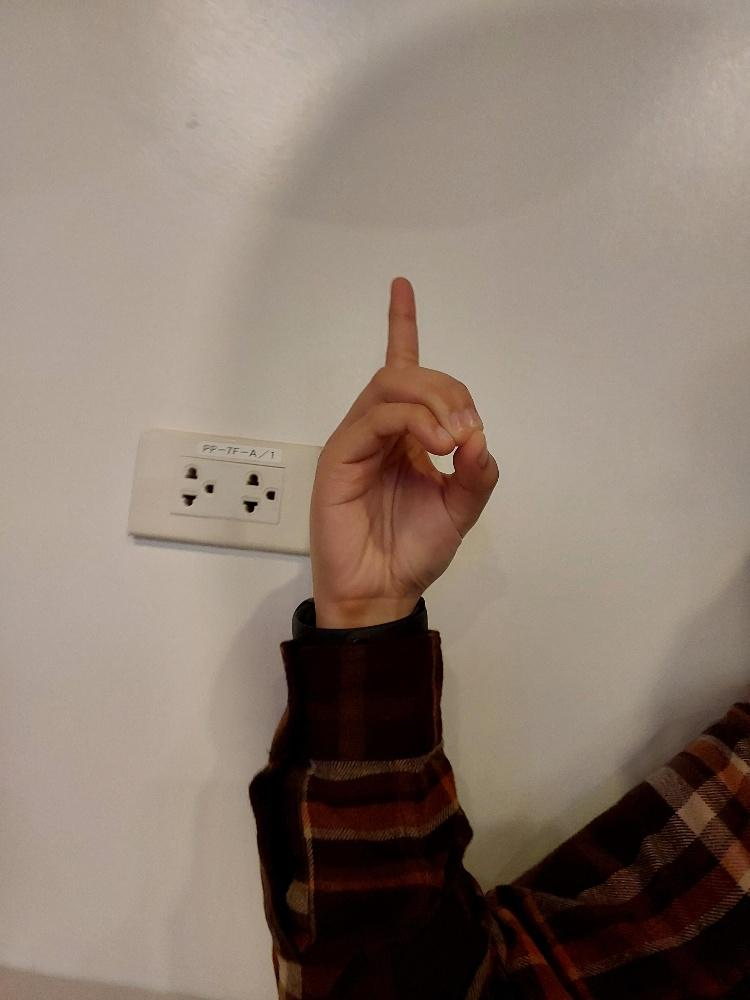d: (302, 267, 508, 615)
